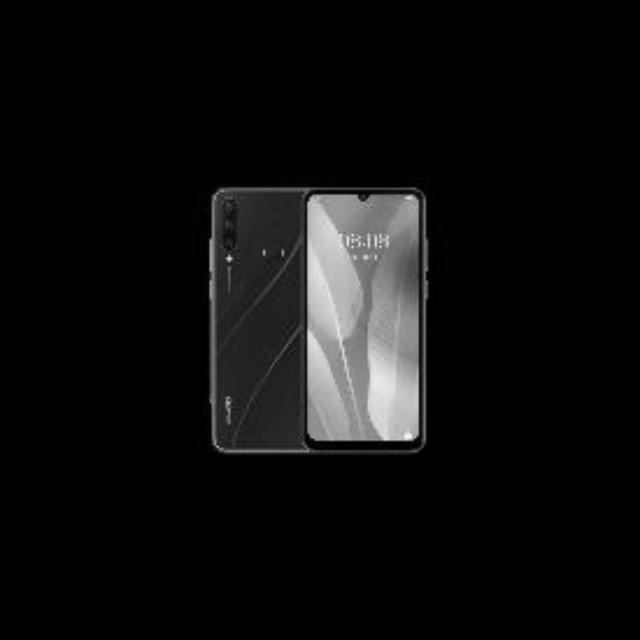fake: (202, 193, 429, 456)
